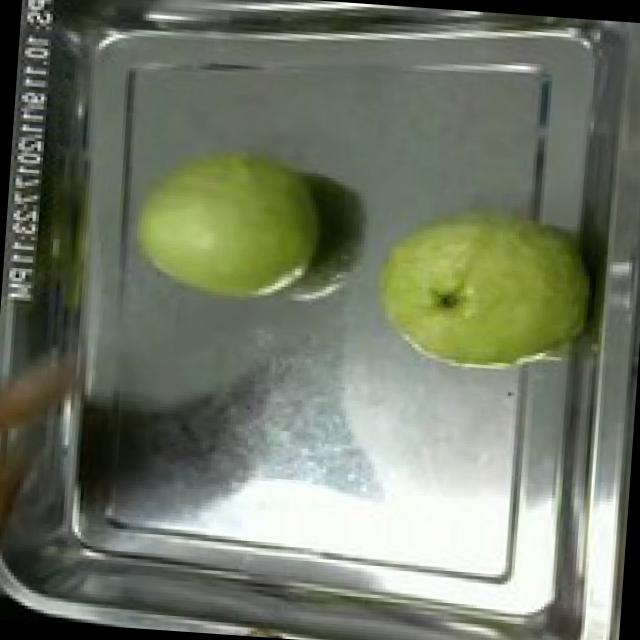Fruit: (362, 192, 604, 390), (122, 131, 332, 317)
